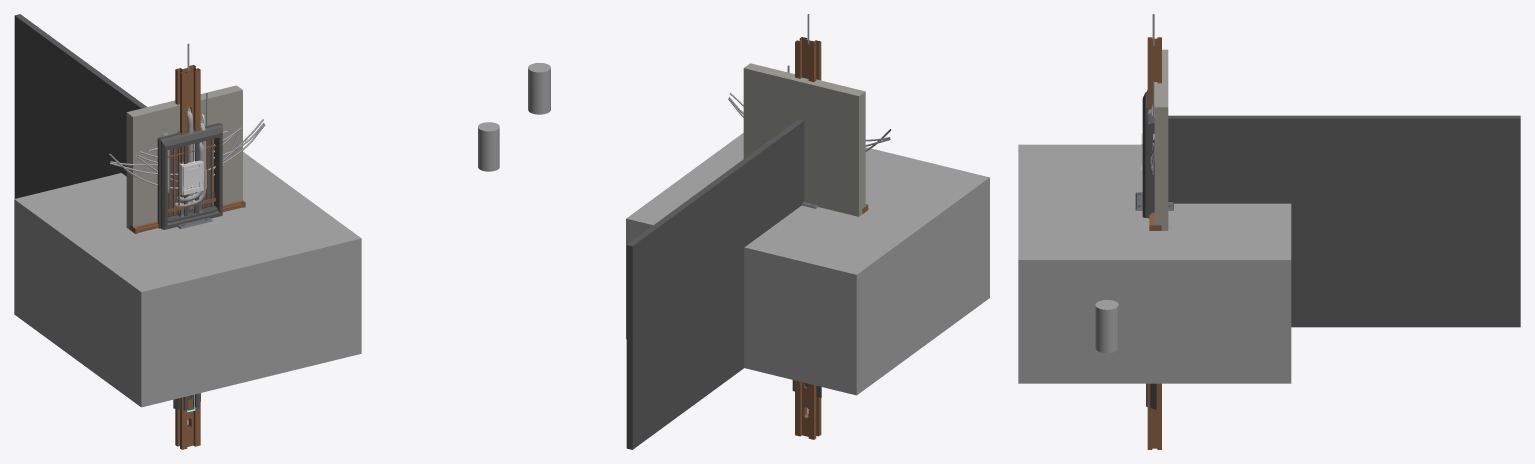
File: 20221213_Bladedancer_Environment_rightscale.fbx
3 renders of one model, left to right at view 1: azimuth 30°, elevation 25°; view 2: azimuth 150°, elevation 25°; view 3: azimuth 270°, elevation 25°, orthographic. The views are drawn at different scales.
Parts seen in each view (by area): view 1: Floor, Moving_Wall_side, Wall, Door, Pillar, Player_scale, Power_Box, Moving_Wall_Box; view 2: Floor, Moving_Wall_side, Wall, Pillar, Player_scale; view 3: Moving_Wall_side, Floor, Wall, Pillar, Door, Player_scale.
Boxes of the visible parts, x1,y1,x2,y2 form: Floor: [14, 152, 361, 407]; Moving_Wall_side: [14, 14, 146, 198]; Wall: [126, 85, 242, 229]; Door: [157, 123, 222, 229]; Pillar: [175, 65, 200, 449]; Player_scale: [478, 122, 499, 171]; Power_Box: [180, 114, 204, 195]; Moving_Wall_Box: [173, 131, 200, 412]; Floor: [626, 133, 989, 395]; Moving_Wall_side: [626, 119, 804, 449]; Wall: [743, 63, 865, 216]; Pillar: [795, 37, 821, 439]; Player_scale: [528, 63, 550, 114]; Moving_Wall_side: [1168, 115, 1520, 327]; Floor: [1018, 144, 1291, 383]; Wall: [1154, 49, 1168, 230]; Pillar: [1147, 37, 1161, 449]; Door: [1142, 92, 1154, 218]; Player_scale: [1095, 300, 1118, 352].
Bounding box in the file's own units: 3616 × 3483 × 3681.
